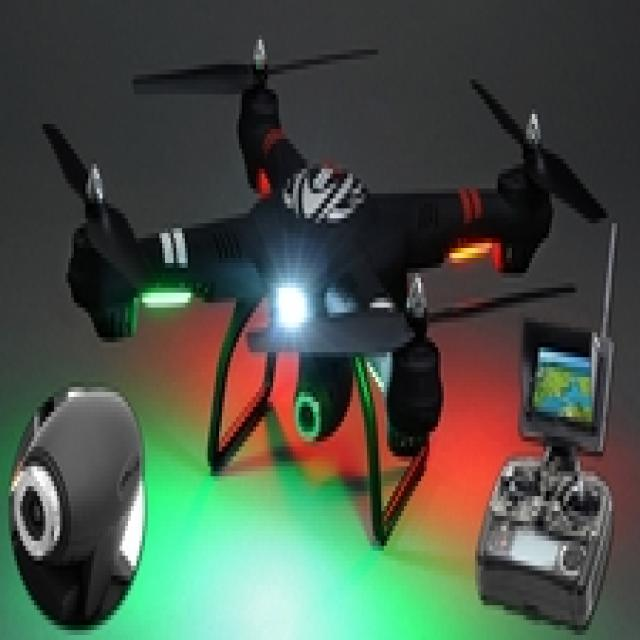drone: (41, 13, 516, 472)
